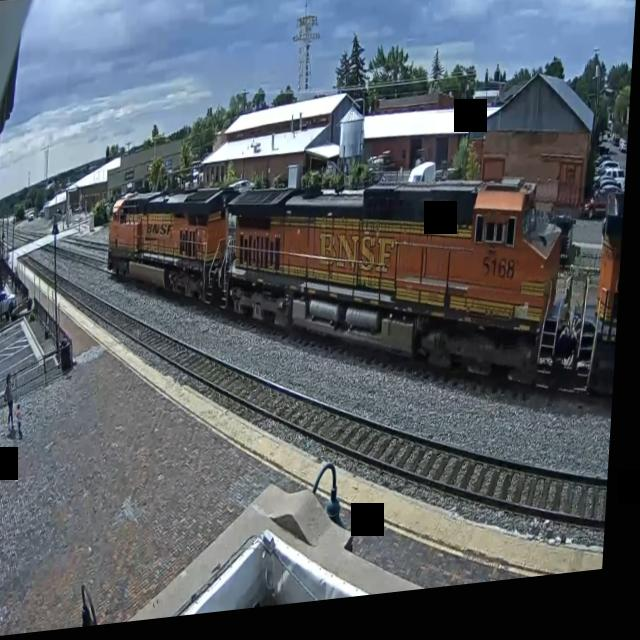locomotive: (217, 157, 584, 454), (106, 181, 241, 329)
